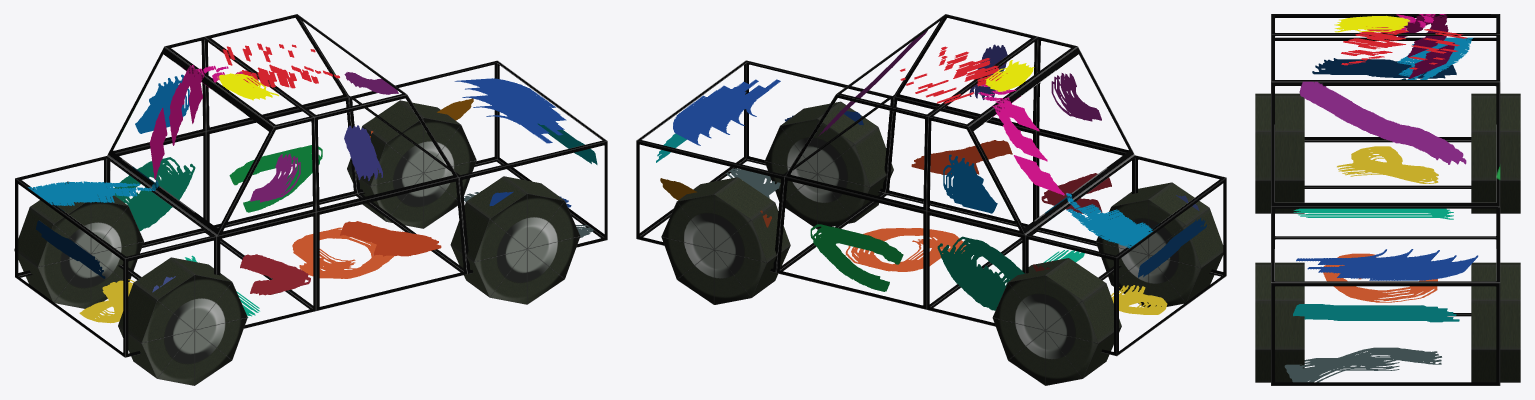
File: car.fbx
The picture shows the model from 3 angles, left to right: view 1: azimuth 30°, elevation 25°; view 2: azimuth 150°, elevation 25°; view 3: azimuth 270°, elevation 25°; orthographic projection. The views are drawn at different scales.
Parts seen in each view (by area): view 1: pCube1, pCylinder22, pCylinder21, pCylinder20, pCylinder19; view 2: pCube1, pCylinder19, pCylinder20, pCylinder21, pCylinder22; view 3: pCube1, pCylinder20, pCylinder19, pCylinder22, pCylinder21.
Boxes of the visible parts, x1,y1,x2,y2 form: pCube1: [15, 14, 607, 357]; pCylinder22: [118, 257, 247, 385]; pCylinder21: [450, 176, 580, 304]; pCylinder20: [347, 100, 476, 228]; pCylinder19: [14, 181, 143, 308]; pCube1: [636, 14, 1226, 356]; pCylinder19: [992, 258, 1121, 385]; pCylinder20: [661, 177, 790, 304]; pCylinder21: [764, 101, 893, 229]; pCylinder22: [1096, 182, 1223, 307]; pCube1: [1271, 14, 1500, 385]; pCylinder20: [1471, 262, 1520, 382]; pCylinder19: [1471, 93, 1520, 213]; pCylinder22: [1255, 93, 1304, 213]; pCylinder21: [1255, 262, 1304, 382].
Bounding box in the file's own units: 5.85 × 2.69 × 2.67.
2 materials, 2 textured.
